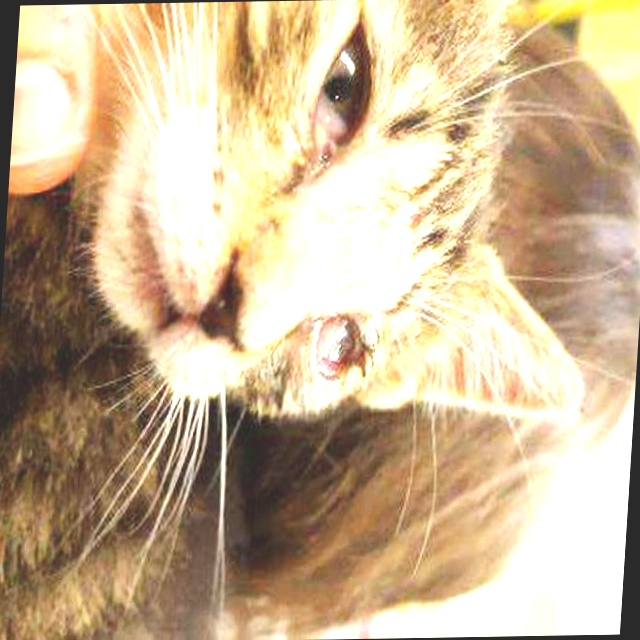eye_infection: (304, 23, 378, 162), (299, 307, 372, 391)
